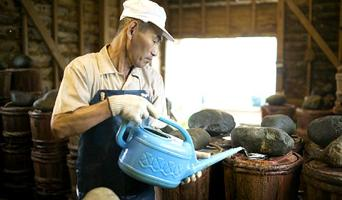person: (49, 2, 210, 200)
